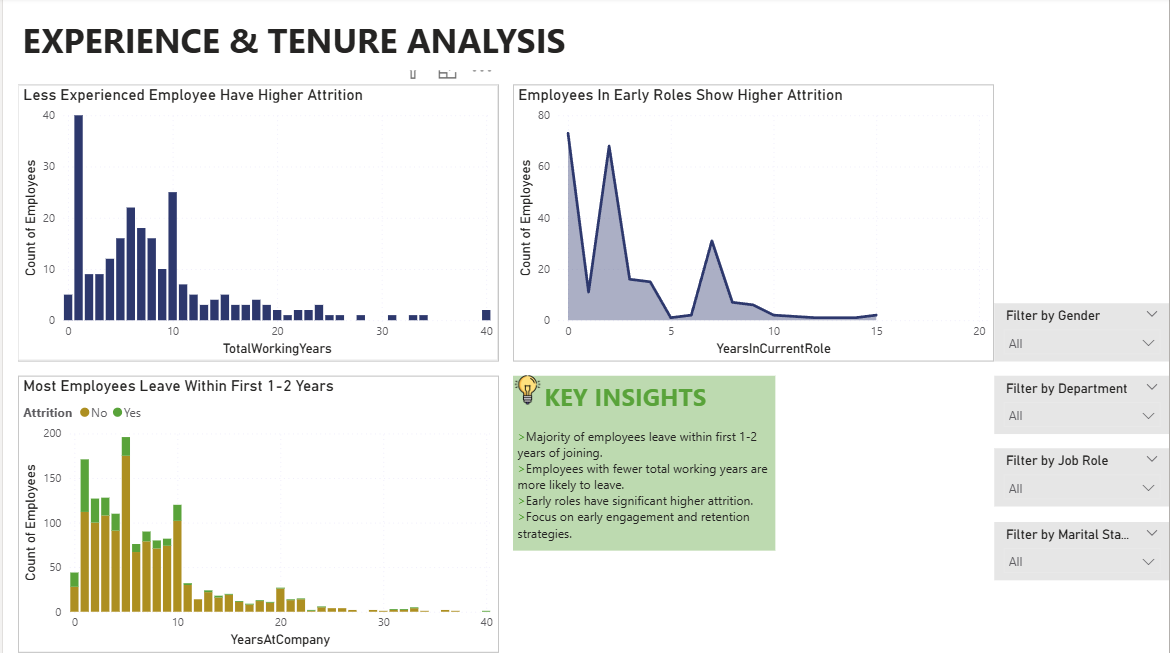

Layout of this report page (visuals, bound fields, positions):
{"tool":"powerbi","page":{"name":"Page 3","canvas":[1280,720],"ordinal":2},"visuals":[{"type":"lineStackedColumnComboChart","title":"Less Experienced Employee Have Higher Attrition","fields":{"Category":["HR-Employee-Attrition.TotalWorkingYears"],"Y":["CountNonNull(HR-Employee-Attrition.EmployeeNumber)"]},"box":[16,96,528,304],"z":0},{"type":"columnChart","title":"Most Employees Leave Within First 1-2 Years","fields":{"Category":["HR-Employee-Attrition.YearsAtCompany"],"Y":["CountNonNull(HR-Employee-Attrition.EmployeeNumber)"],"Series":["HR-Employee-Attrition.Attrition"]},"box":[16,416,528,304],"z":1000},{"type":"textbox","box":[16,16,624,64],"z":2000},{"type":"areaChart","title":"Employees In Early Roles Show Higher Attrition","fields":{"Category":["HR-Employee-Attrition.YearsInCurrentRole"],"Y":["CountNonNull(HR-Employee-Attrition.EmployeeNumber)"]},"box":[560,96,528,304],"z":3000},{"type":"textbox","box":[560,416,288,192],"z":4000},{"type":"image","box":[560,400,32,64],"z":5000},{"type":"slicer","fields":{"Values":["HR-Employee-Attrition.Gender"]},"box":[1088,336,192,64],"z":6000},{"type":"slicer","fields":{"Values":["HR-Employee-Attrition.Department"]},"box":[1088,416,192,64],"z":7000},{"type":"slicer","title":"Filter by Job Role","fields":{"Values":["HR-Employee-Attrition.JobRole"]},"box":[1088,496,192,64],"z":8000},{"type":"slicer","fields":{"Values":["HR-Employee-Attrition.MaritalStatus"]},"box":[1088,576,192,64],"z":9000}]}

Visuals, with their boxes in screenshot pixels (x1, y1, x2, y2), scaled from the page's 1280x720 canvas onto the 1170x653 screenshot:
"Less Experienced Employee Have Higher Attrition" lineStackedColumnComboChart: <region>15, 87, 497, 363</region>
"Most Employees Leave Within First 1-2 Years" columnChart: <region>15, 377, 497, 652</region>
textbox: <region>15, 15, 585, 73</region>
"Employees In Early Roles Show Higher Attrition" areaChart: <region>512, 87, 994, 363</region>
textbox: <region>512, 377, 775, 551</region>
image: <region>512, 363, 541, 421</region>
slicer - HR-Employee-Attrition.Gender: <region>994, 305, 1169, 363</region>
slicer - HR-Employee-Attrition.Department: <region>994, 377, 1169, 435</region>
"Filter by Job Role" slicer: <region>994, 450, 1169, 508</region>
slicer - HR-Employee-Attrition.MaritalStatus: <region>994, 522, 1169, 580</region>
